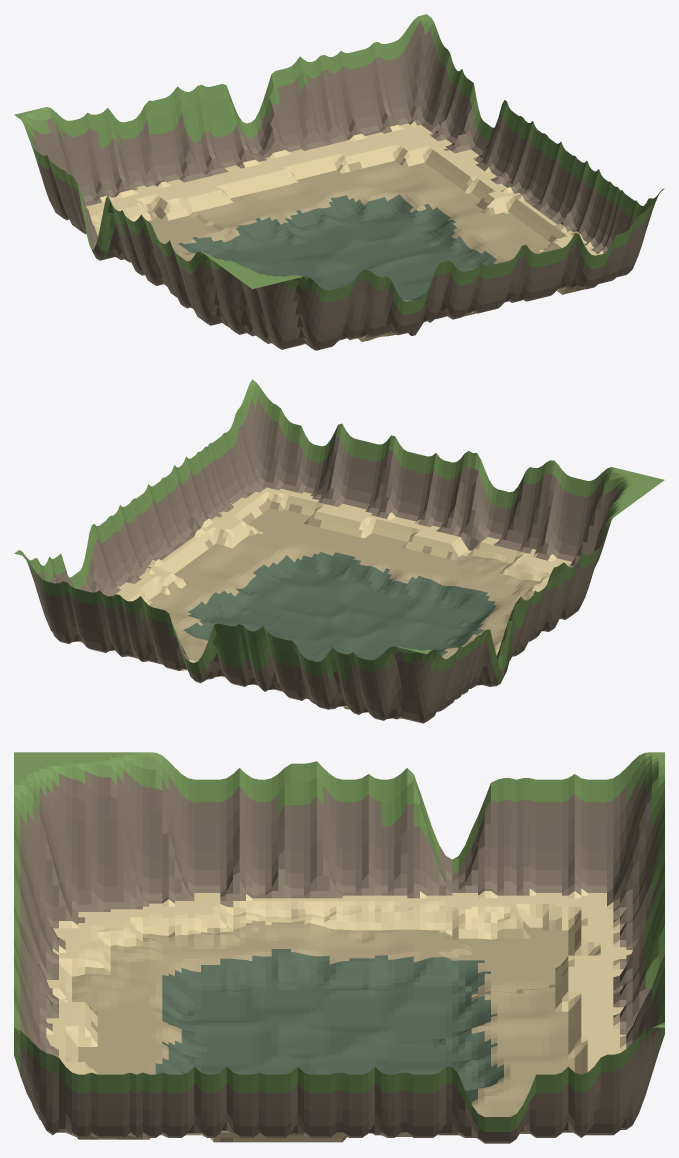
Rendered from terrain.glb.
The picture shows the model from 3 angles, top to bottom: view 1: azimuth 30°, elevation 25°; view 2: azimuth 150°, elevation 25°; view 3: azimuth 270°, elevation 25°; orthographic projection. The views are drawn at different scales.
Parts seen in each view (by area): view 1: terrain; view 2: terrain; view 3: terrain.
Part boxes in pixels (left/top/right/bottom): terrain: left=14, top=14, right=664, bottom=350; terrain: left=14, top=379, right=664, bottom=723; terrain: left=14, top=752, right=664, bottom=1143.
Size of the model in its own units: 300 by 80.64 by 300.
